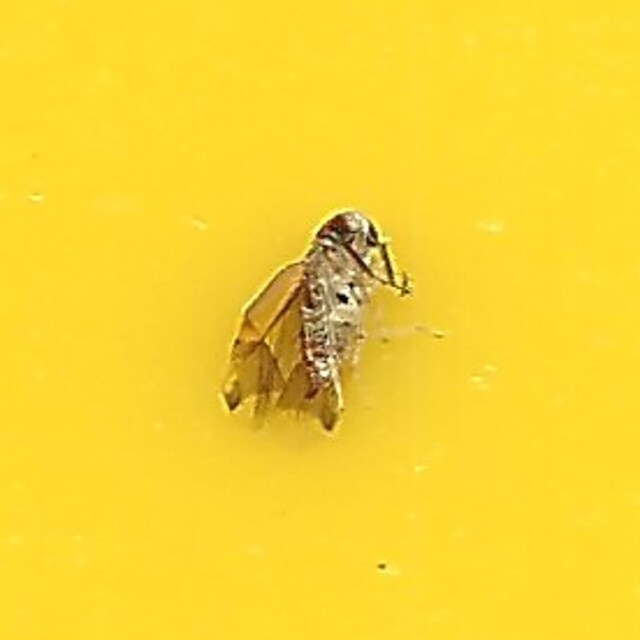Hemiptera: (232, 199, 408, 441)
